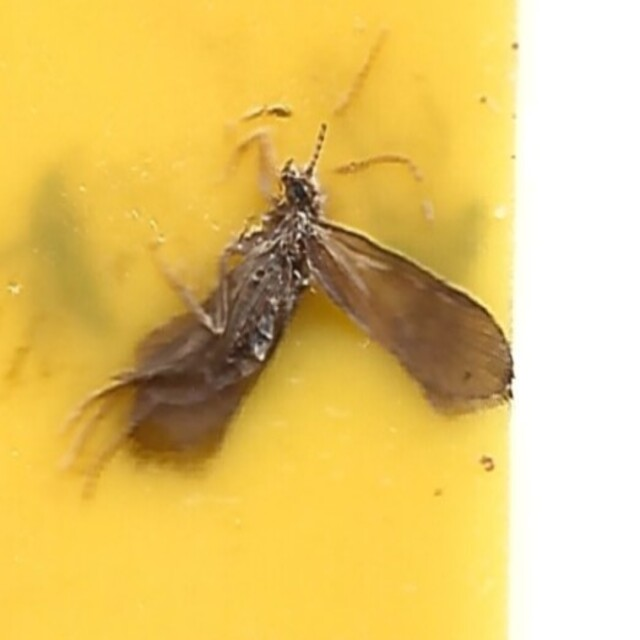Trichoptera: (123, 162, 517, 478)
